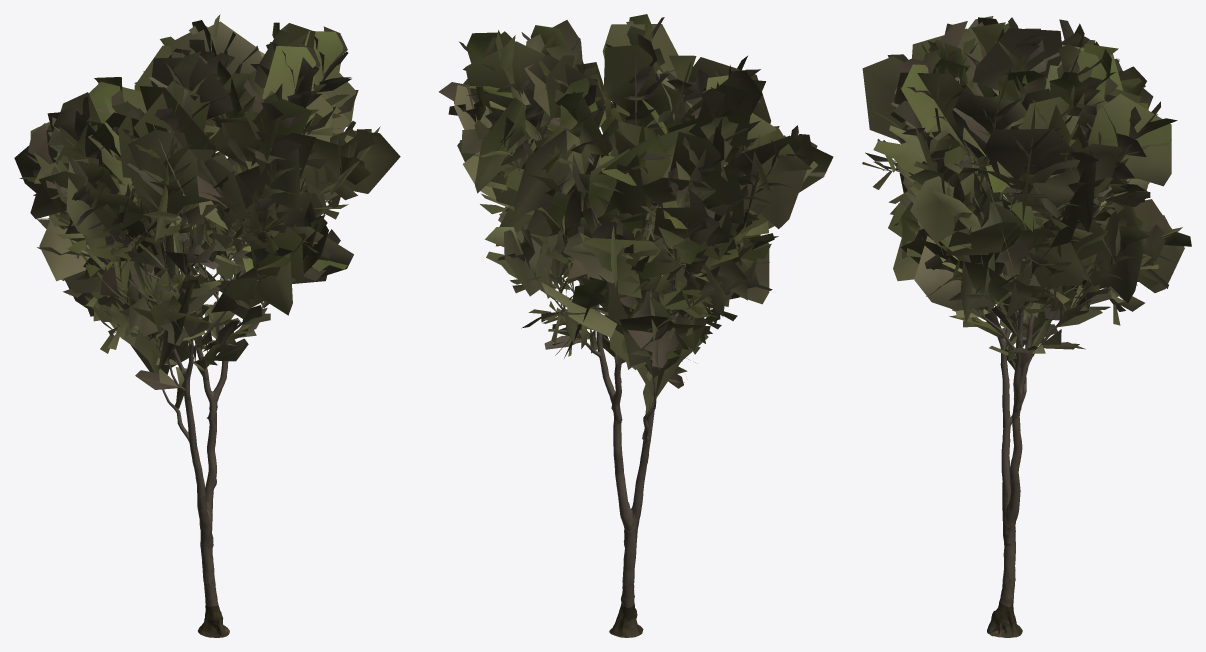
The model's file is SM_BlackAlder_Forest_04_PP_LOD3.gltf.
The picture shows the model from 3 angles, left to right: view 1: azimuth 30°, elevation 25°; view 2: azimuth 150°, elevation 25°; view 3: azimuth 270°, elevation 25°; orthographic projection. The views are drawn at different scales.
Visible parts, largest first — view 1: SM_BlackAlder_Forest_04_PP; view 2: SM_BlackAlder_Forest_04_PP; view 3: SM_BlackAlder_Forest_04_PP.
Part boxes in pixels (x1=…): SM_BlackAlder_Forest_04_PP: x1=14, y1=14, x2=400, y2=637; SM_BlackAlder_Forest_04_PP: x1=439, y1=14, x2=833, y2=637; SM_BlackAlder_Forest_04_PP: x1=862, y1=16, x2=1191, y2=637.
Bounding box in the file's own units: 7.18 × 11.71 × 5.78.
4 materials, 4 textured.
